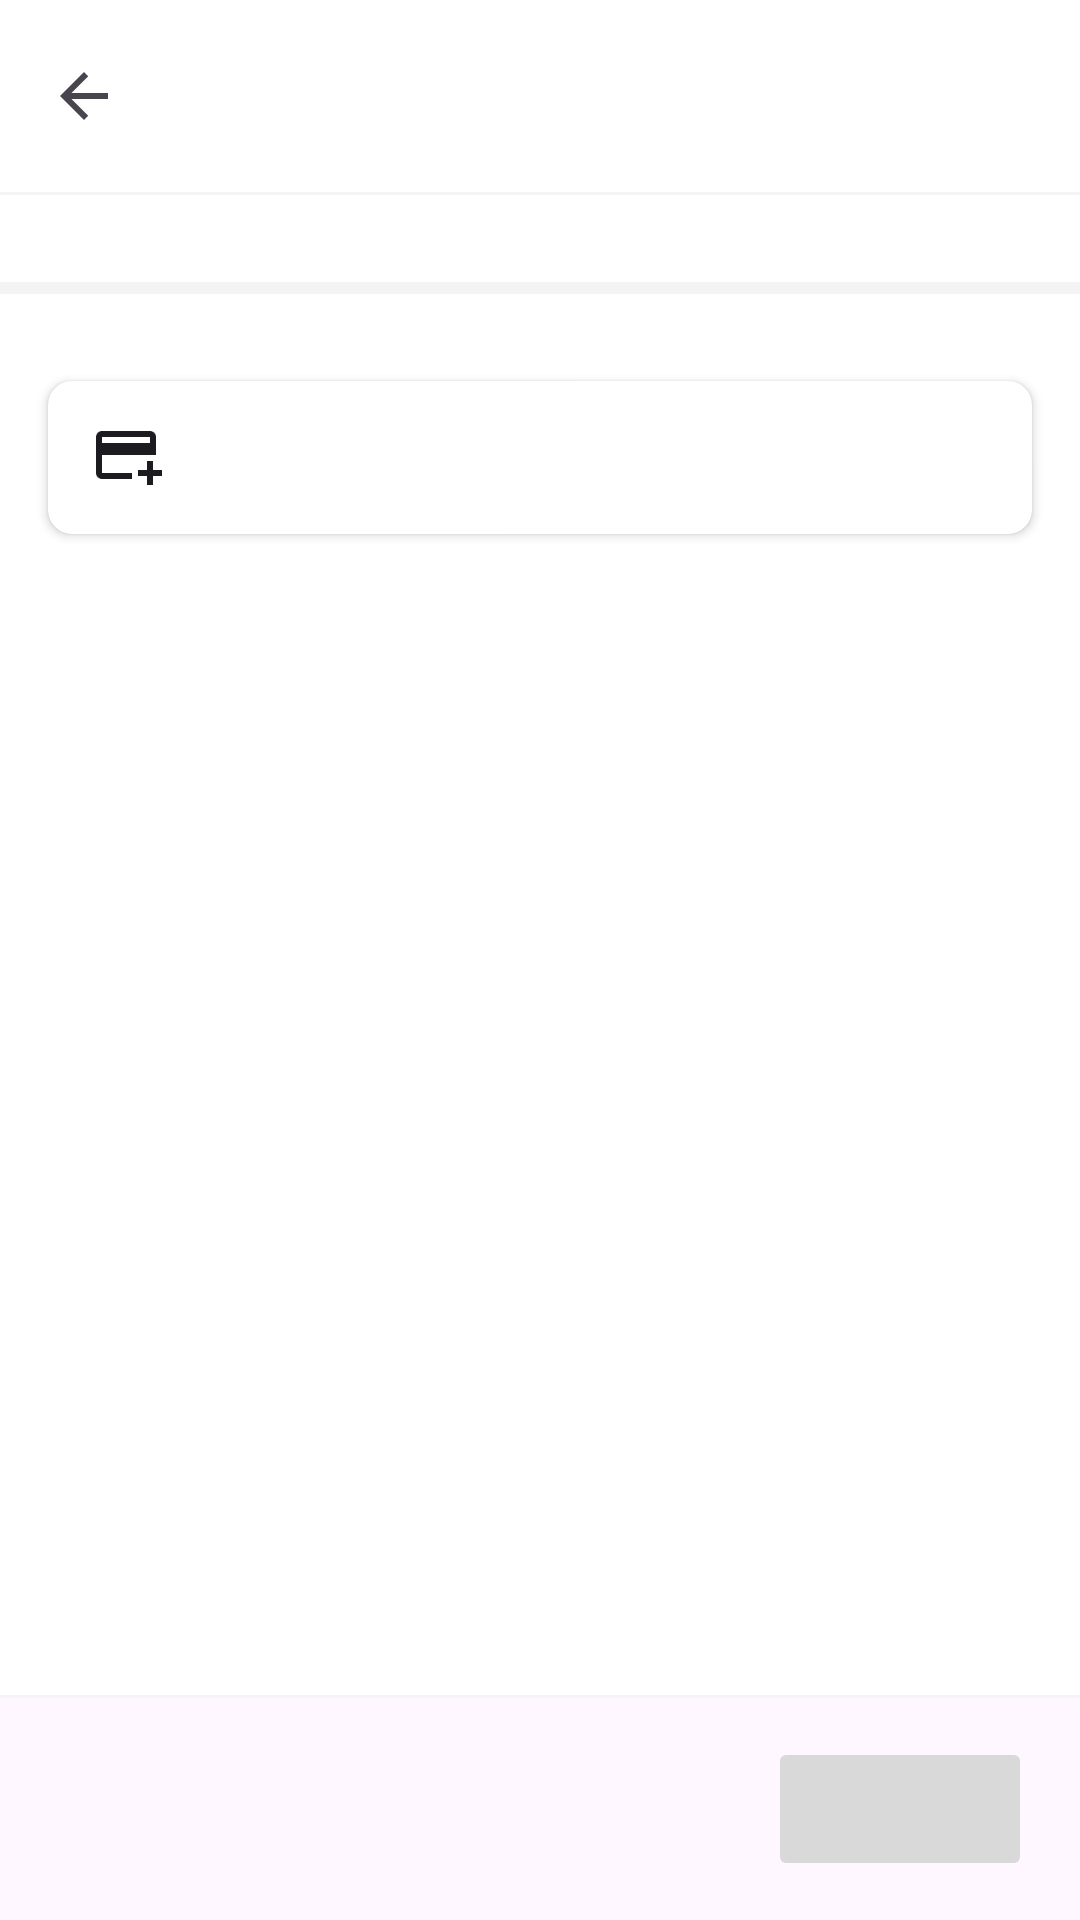

Screen size 1080x1920. Icon name, then its center in pixels as (x,y):
add card: (129,458)
